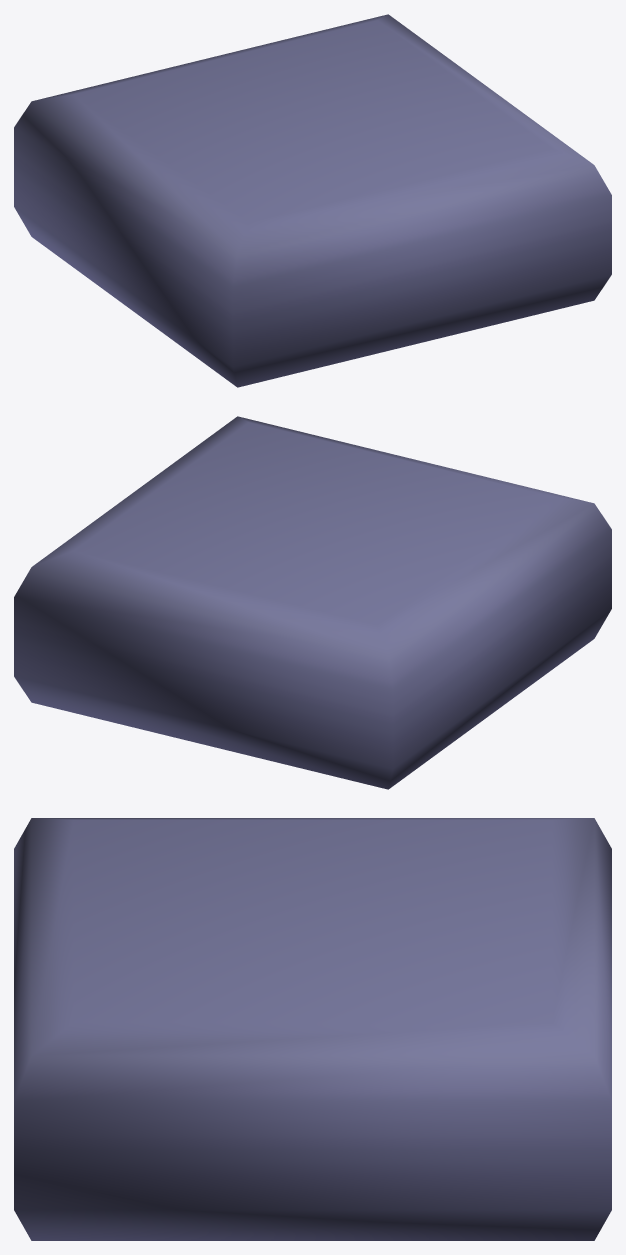
File: kenney-conveyor-conveyor-sides-cross.glb
3 views of the same model, one above another, from view 1: azimuth 30°, elevation 25°; view 2: azimuth 150°, elevation 25°; view 3: azimuth 270°, elevation 25° (orthographic). The views are drawn at different scales.
Parts seen in each view (by area): view 1: conveyor-sides-cross; view 2: conveyor-sides-cross; view 3: conveyor-sides-cross.
Part boxes in pixels (<box>): conveyor-sides-cross: <box>14,14,611,387</box>; conveyor-sides-cross: <box>14,416,611,789</box>; conveyor-sides-cross: <box>14,818,611,1240</box>.
Bounding box in the file's own units: 1 × 0.3999 × 1.
1 material, 1 textured.
